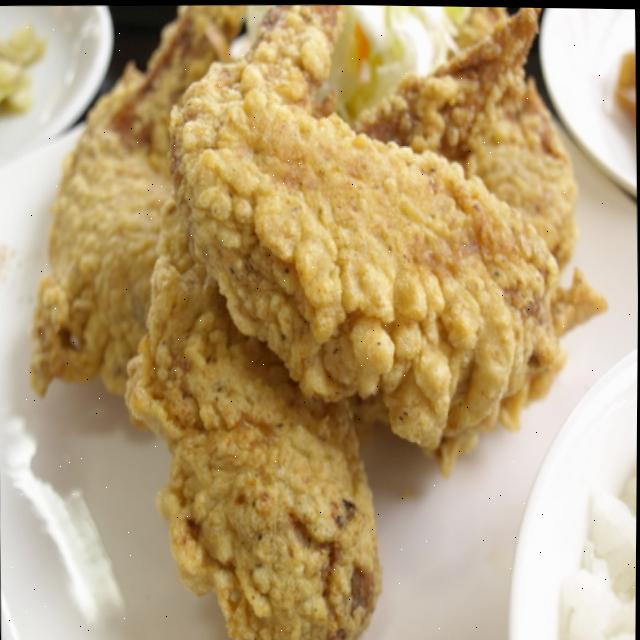鸡肉料理 含炸鸡: (36, 5, 577, 640)
